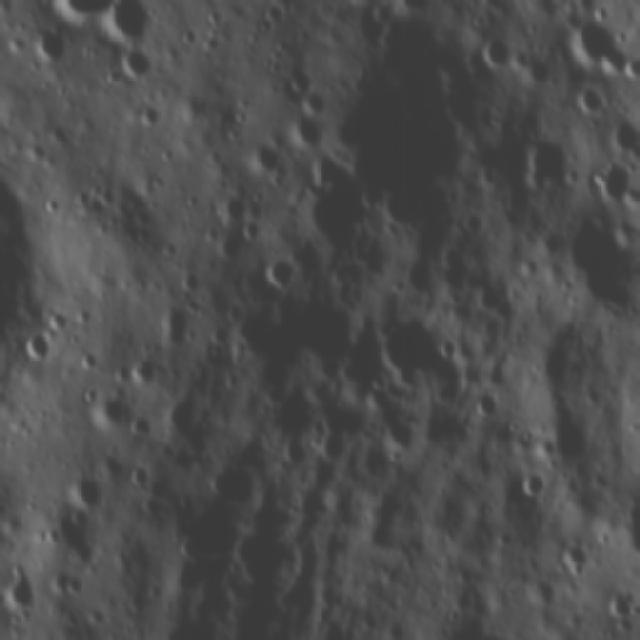crater: (375, 308, 476, 412), (569, 10, 640, 79), (514, 120, 577, 195), (96, 0, 167, 51), (208, 456, 267, 512), (244, 130, 298, 184), (161, 388, 201, 446), (7, 554, 47, 609), (284, 101, 327, 152), (155, 301, 199, 350), (116, 42, 159, 88), (594, 157, 634, 206), (62, 467, 109, 508), (263, 243, 302, 291), (51, 0, 122, 26), (515, 460, 554, 506), (472, 380, 511, 426), (15, 323, 54, 366), (560, 533, 594, 582), (214, 190, 257, 228), (30, 29, 70, 69), (576, 70, 609, 116), (481, 34, 521, 71), (605, 578, 637, 624), (170, 256, 208, 292), (606, 111, 639, 152), (128, 460, 160, 494), (279, 438, 312, 470), (74, 347, 106, 376), (83, 382, 105, 406)
